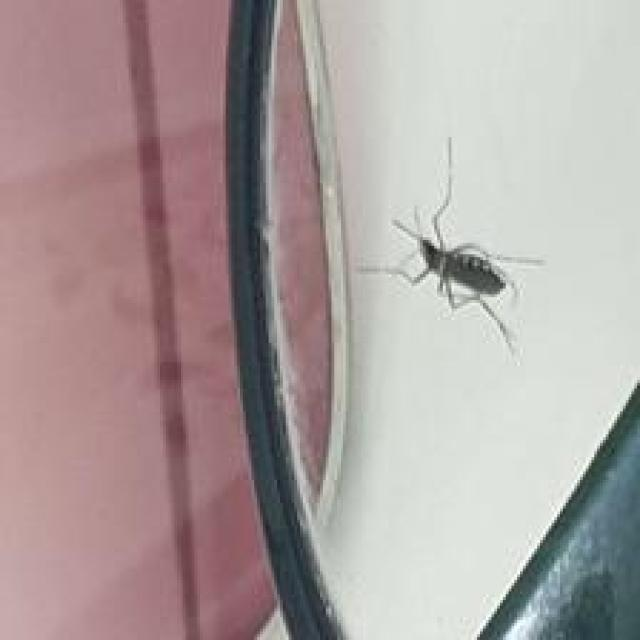Aedes albopictus: (354, 134, 546, 360)
